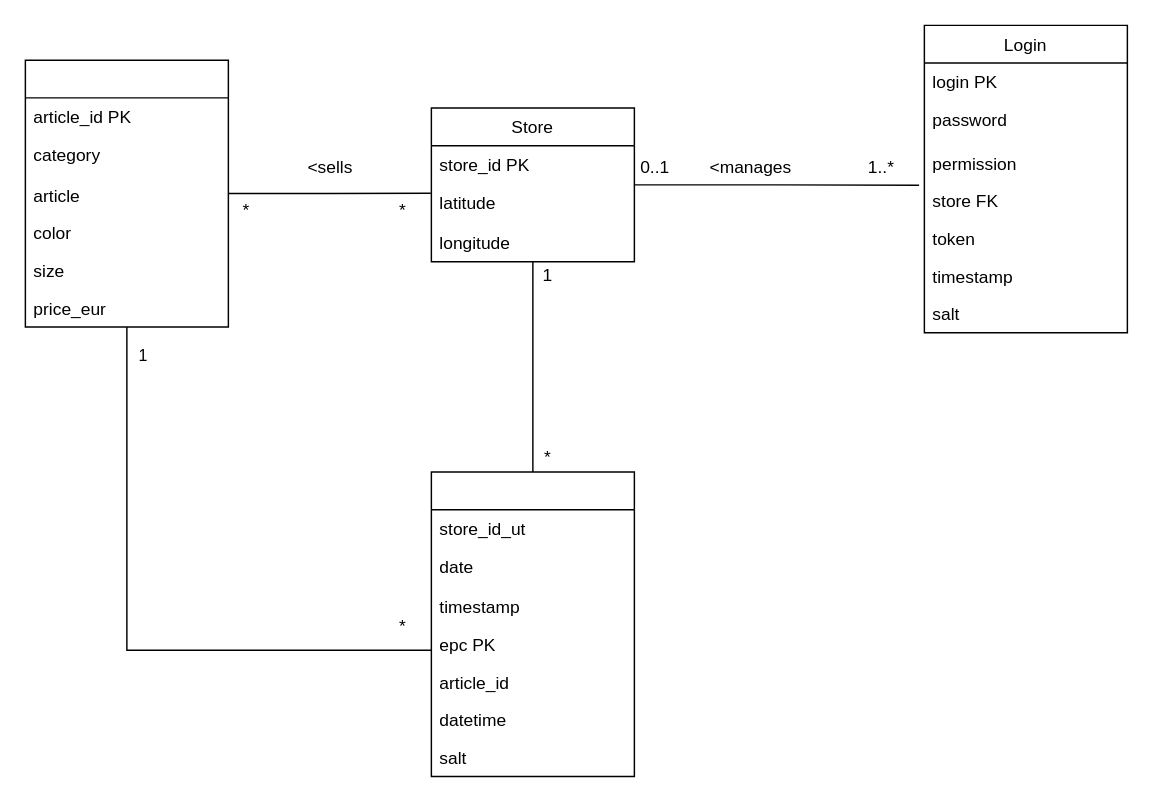
Some shapes in this 1153 by 806 pixel diagram are drawn without their labels. Each missing label, with the box of its shape:
Alarm: (430, 471, 634, 776)
Articles: (24, 59, 228, 327)
